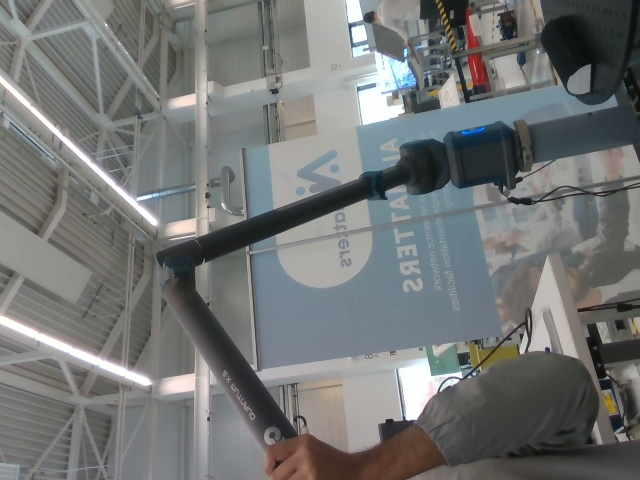Robot arm: (155, 107, 629, 399)
